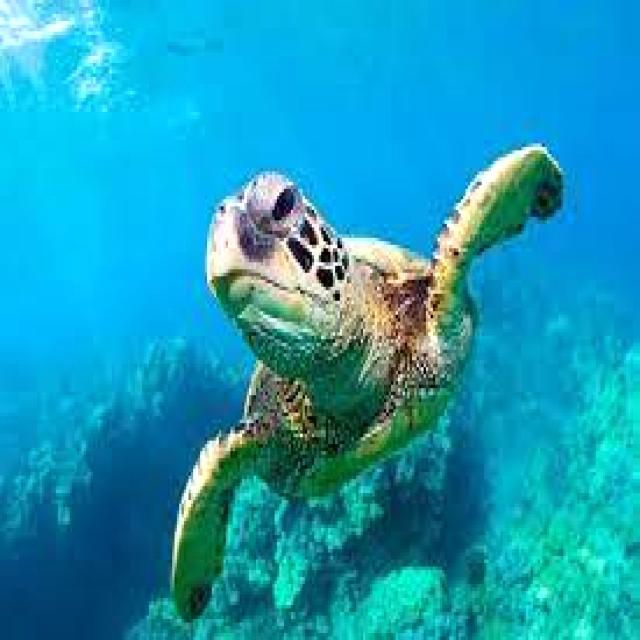Sea turtle: (174, 141, 574, 620)
